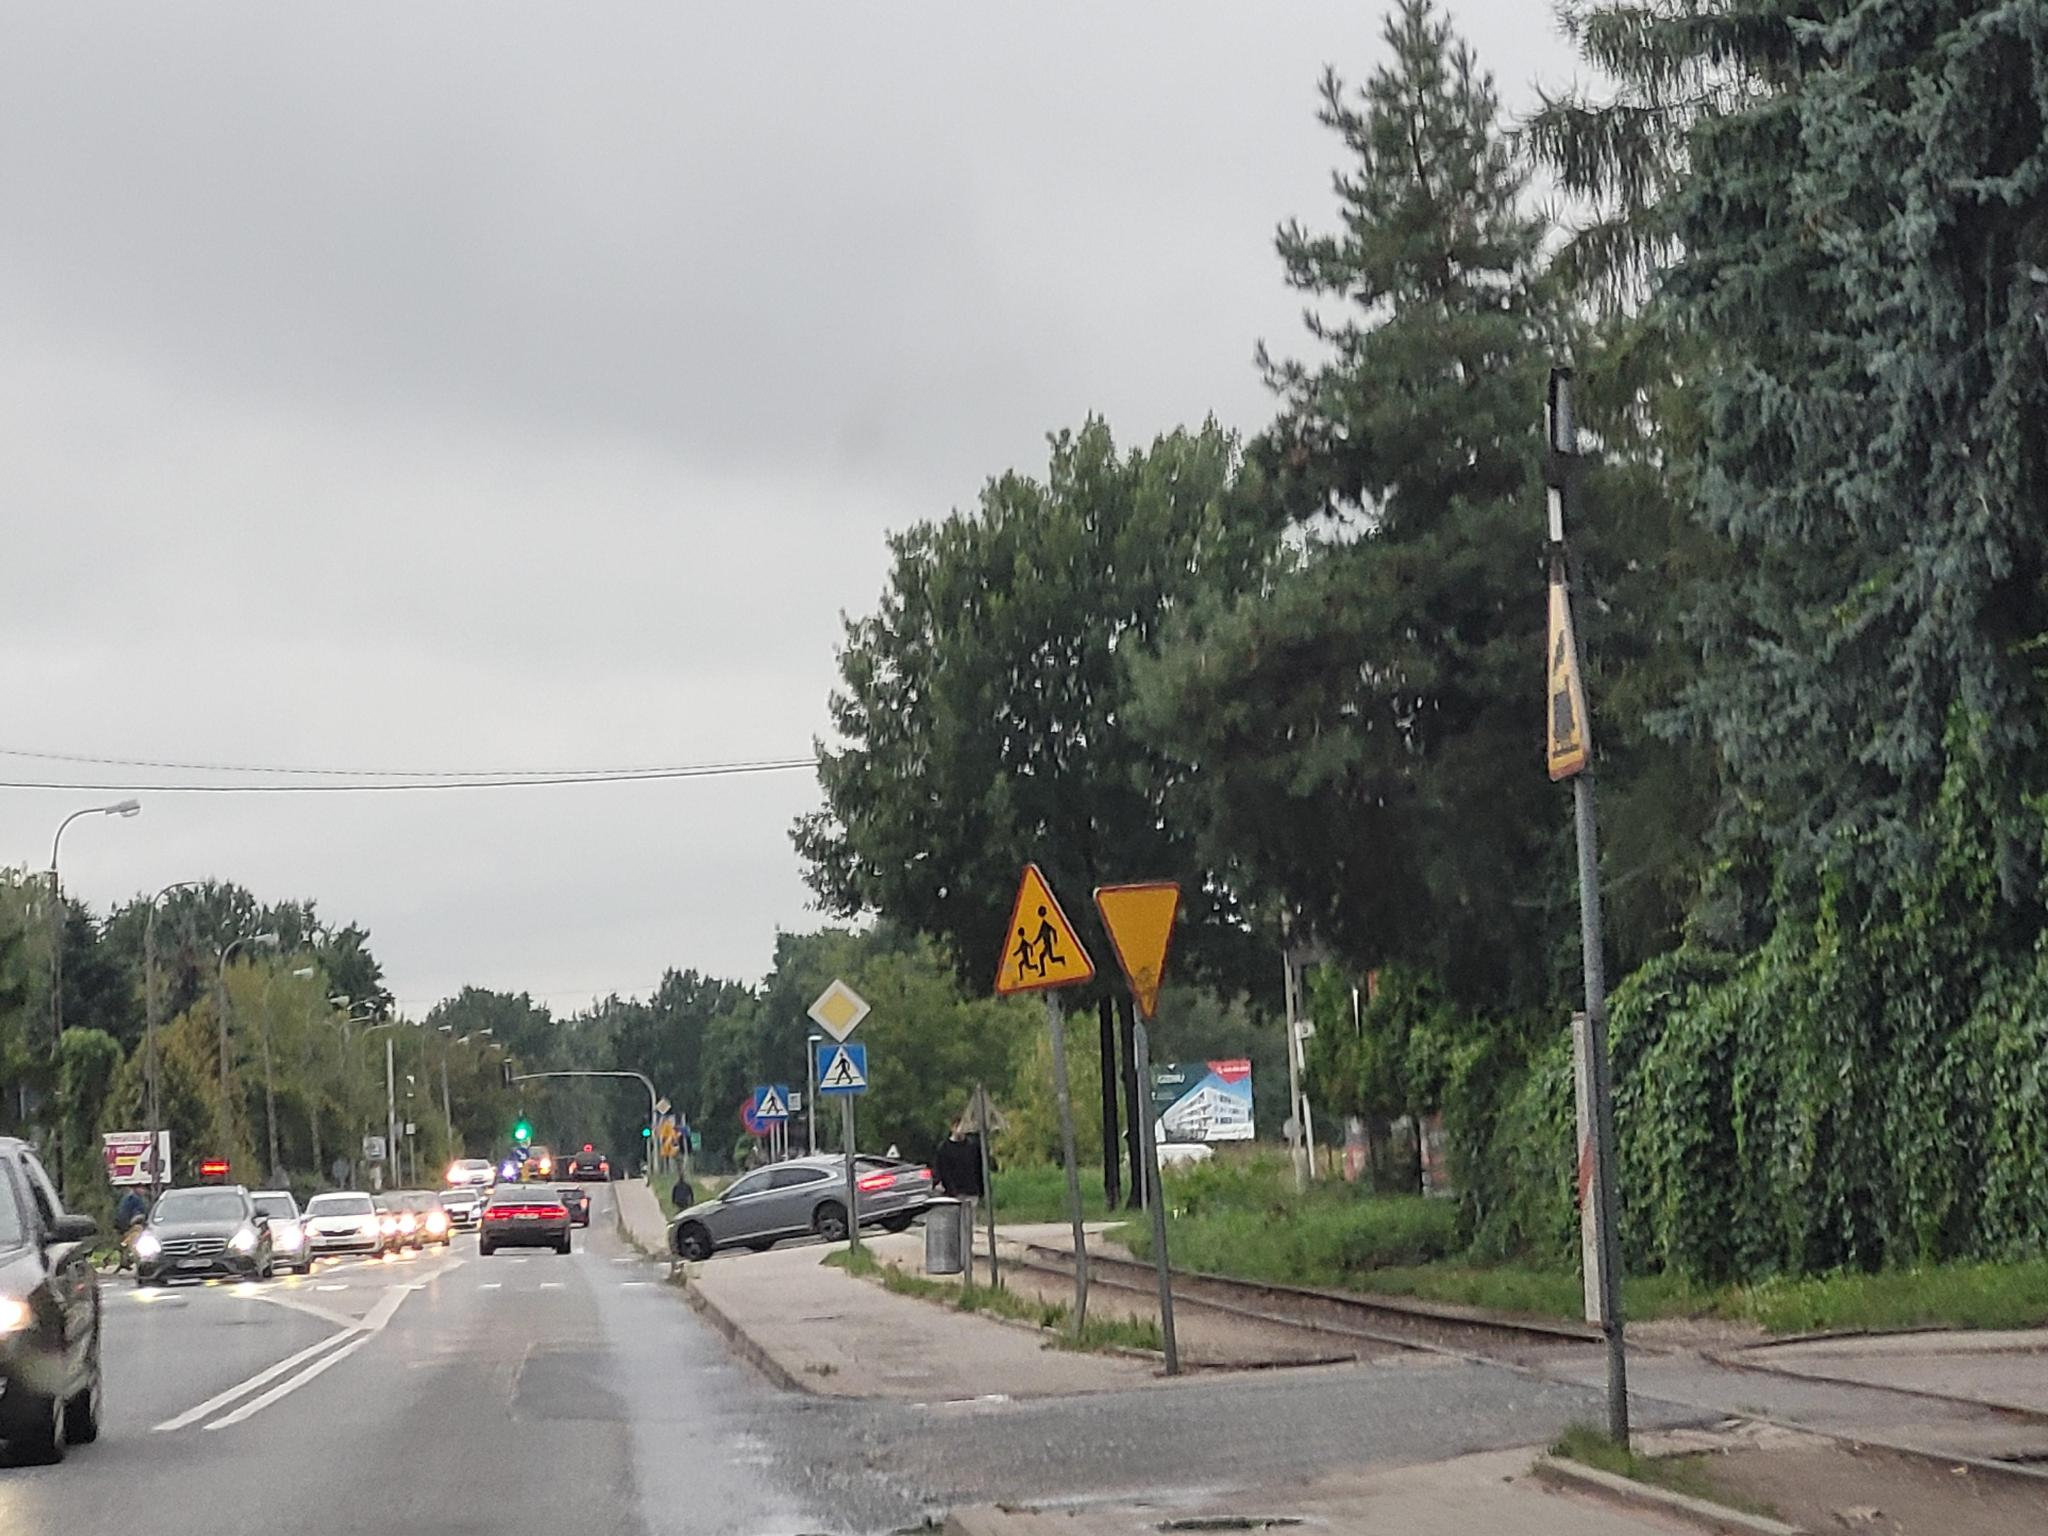information: (805, 978, 876, 1044), (816, 1042, 871, 1096), (755, 1086, 790, 1118), (655, 1099, 671, 1115)
mandatory: (514, 1149, 529, 1162)
prohibitory: (739, 1099, 772, 1136)
warning: (993, 863, 1095, 995), (1092, 881, 1184, 1020)
